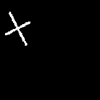single_crochet: (5, 12, 29, 44)
